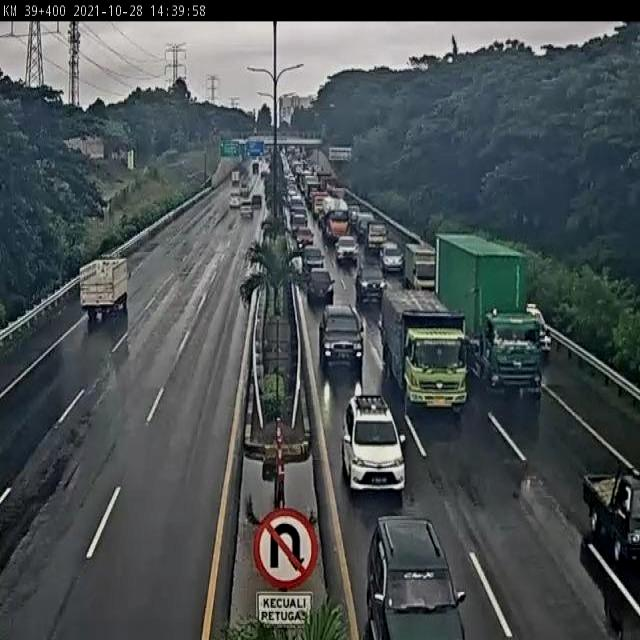Car: (362, 514, 468, 637), (340, 389, 406, 494), (320, 304, 364, 372), (356, 260, 386, 304), (306, 264, 334, 304), (334, 234, 360, 266), (380, 243, 404, 276), (302, 246, 326, 274), (294, 226, 315, 249), (240, 200, 253, 219), (228, 194, 240, 209)
Truck: (433, 235, 539, 402), (379, 290, 462, 415), (585, 468, 640, 563), (79, 257, 129, 325), (404, 243, 436, 292), (321, 195, 349, 238), (366, 222, 388, 256), (355, 212, 375, 243), (312, 193, 328, 219)
